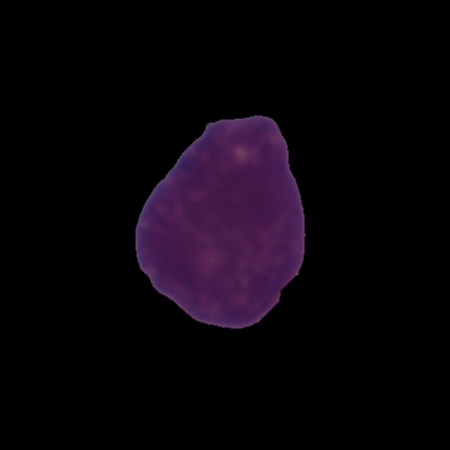HEM: (131, 111, 309, 332)
